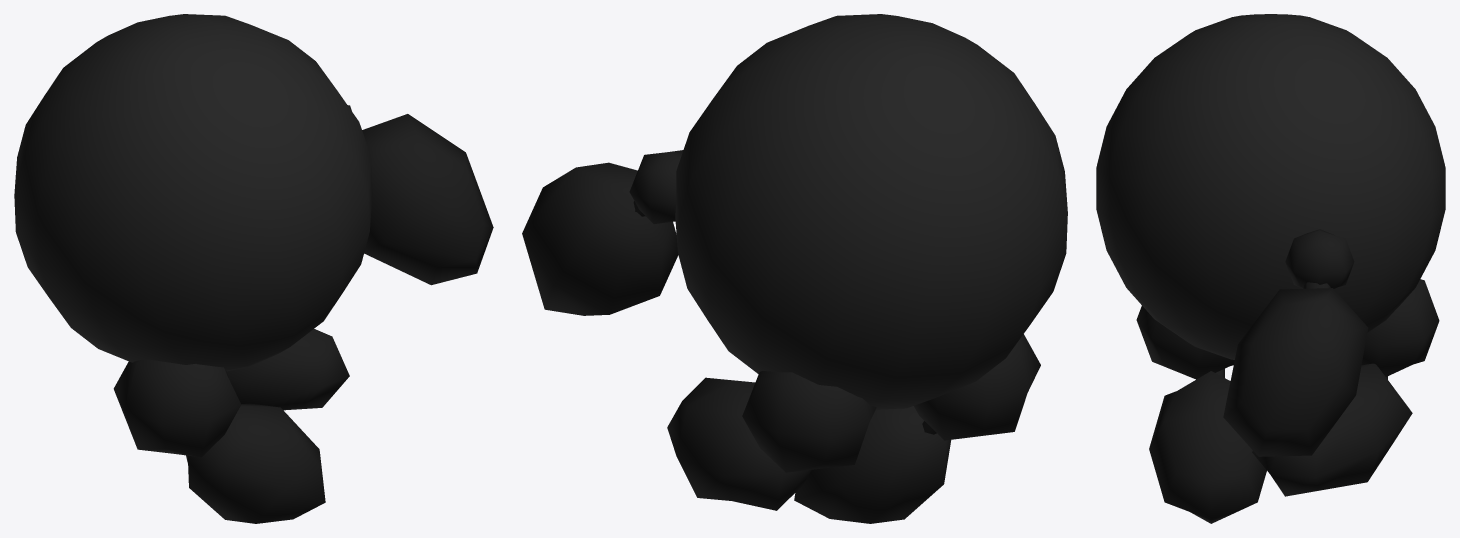
File: hand_right.obj
3 renders of one model, left to right at view 1: azimuth 30°, elevation 25°; view 2: azimuth 150°, elevation 25°; view 3: azimuth 270°, elevation 25°, orthographic. The views are drawn at different scales.
Parts seen in each view (by area): view 1: hand_right right_hand pivot, hand_right pinky_2_right, hand_right thumb_2_right, hand_right thumb_1_right, hand_right middle_2_right; view 2: hand_right right_hand pivot, hand_right pinky_2_right, hand_right thumb_2_right, hand_right middle_2_right, hand_right middle_1_right, hand_right thumb_1_right, hand_right pinky_1_left1; view 3: hand_right right_hand pivot, hand_right pinky_2_right, hand_right thumb_2_right, hand_right middle_2_right, hand_right middle_1_right, hand_right pinky_1_left1, hand_right thumb_1_right.
Part boxes in pixels (box(x1,y1,x2,y2)): hand_right right_hand pivot: box(14, 14, 372, 371); hand_right pinky_2_right: box(362, 114, 493, 285); hand_right thumb_2_right: box(186, 403, 325, 523); hand_right thumb_1_right: box(113, 359, 241, 457); hand_right middle_2_right: box(226, 329, 349, 410); hand_right right_hand pivot: box(675, 14, 1067, 409); hand_right pinky_2_right: box(522, 162, 678, 315); hand_right thumb_2_right: box(794, 406, 951, 523); hand_right middle_2_right: box(667, 377, 811, 510); hand_right middle_1_right: box(742, 371, 876, 472); hand_right thumb_1_right: box(914, 334, 1040, 440); hand_right pinky_1_left1: box(629, 150, 683, 223); hand_right right_hand pivot: box(1096, 14, 1445, 359); hand_right pinky_2_right: box(1223, 288, 1368, 456); hand_right thumb_2_right: box(1149, 371, 1266, 523); hand_right middle_2_right: box(1252, 363, 1412, 496); hand_right middle_1_right: box(1361, 279, 1439, 376); hand_right pinky_1_left1: box(1285, 229, 1354, 288); hand_right thumb_1_right: box(1136, 306, 1234, 379).
Size of the model in its own units: 0.2459 by 0.2486 by 0.1687.
1 material, 1 textured.
